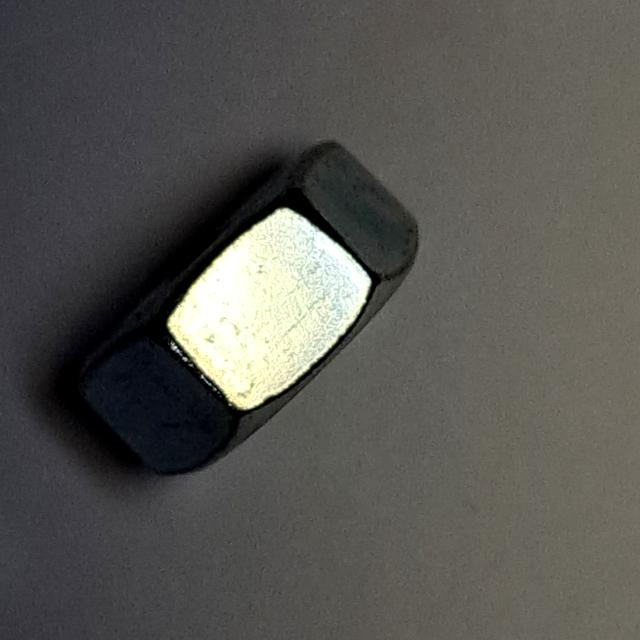Side_Excellent: (46, 127, 435, 495)
